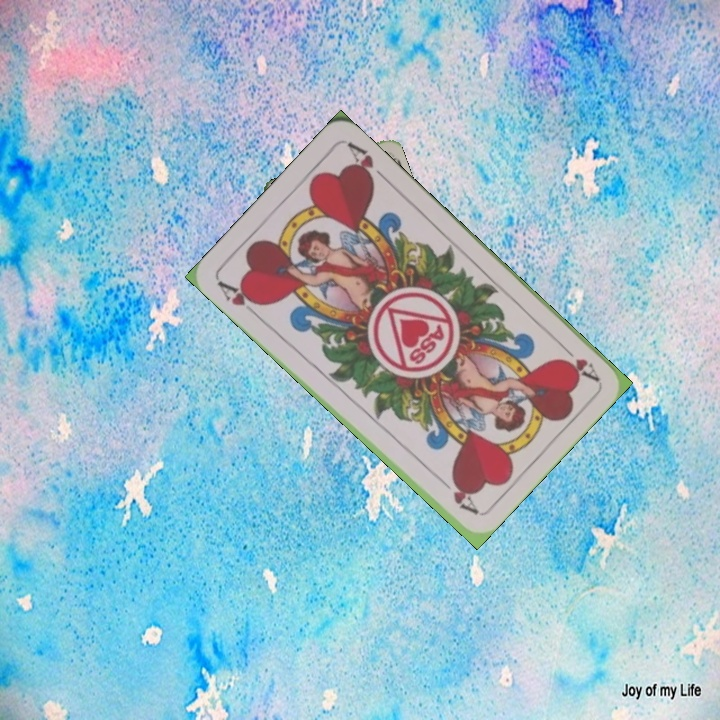HA: (213, 276, 264, 321), (554, 337, 602, 384)
